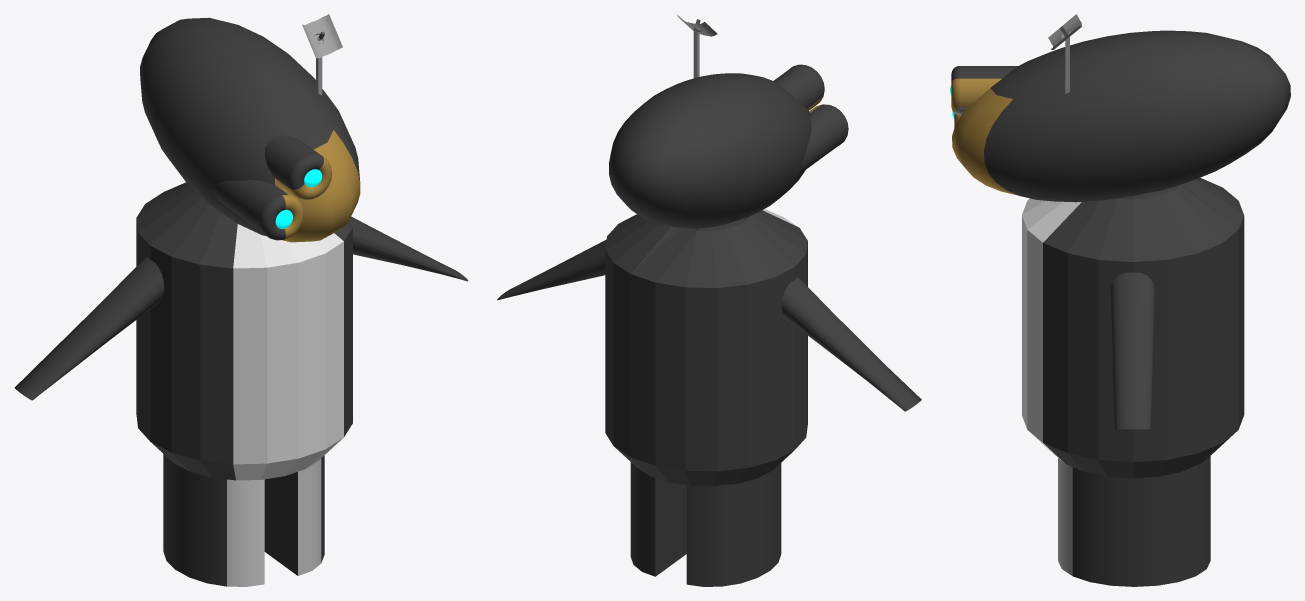
The model's file is PenguinbotMK1.fbx.
The picture shows the model from 3 angles, left to right: view 1: azimuth 30°, elevation 25°; view 2: azimuth 150°, elevation 25°; view 3: azimuth 270°, elevation 25°; orthographic projection. The views are drawn at different scales.
Parts seen in each view (by area): view 1: polySurface16, polySurface13, polySurface15, pCylinder6, polySurface14, pasted__pCylinder6, polySurface12, polySurface11, pTorus4, pasted__pTorus4, pasted__pPlane1; view 2: polySurface16, polySurface13, polySurface15, polySurface14, pCylinder6, pasted__pCylinder6, polySurface12, polySurface11; view 3: polySurface16, polySurface13, polySurface14, pasted__pCylinder6, polySurface11, pasted__pPlane1.
Boxes of the visible parts, box(x1,y1,x2,y2) form: polySurface16: box(136, 182, 352, 480); polySurface13: box(140, 17, 360, 242); polySurface15: box(163, 454, 264, 586); pCylinder6: box(14, 257, 164, 400); polySurface14: box(264, 455, 324, 575); pasted__pCylinder6: box(351, 217, 468, 281); polySurface12: box(212, 180, 298, 233); polySurface11: box(265, 135, 320, 196); pTorus4: box(289, 154, 332, 199); pasted__pTorus4: box(260, 195, 303, 240); pasted__pPlane1: box(302, 14, 342, 58); polySurface16: box(605, 209, 807, 486); polySurface13: box(609, 73, 811, 228); polySurface15: box(686, 463, 781, 586); polySurface14: box(630, 462, 686, 576); pCylinder6: box(781, 277, 921, 411); pasted__pCylinder6: box(497, 239, 606, 300); polySurface12: box(799, 104, 847, 173); polySurface11: box(774, 65, 823, 110); polySurface16: box(1022, 177, 1244, 478); polySurface13: box(952, 30, 1290, 202); polySurface14: box(1058, 456, 1210, 586); pasted__pCylinder6: box(1110, 272, 1155, 429); polySurface11: box(959, 66, 1018, 115); pasted__pPlane1: box(1048, 14, 1082, 49).
Size of the model in its own units: 4.66 by 5.52 by 3.07.
